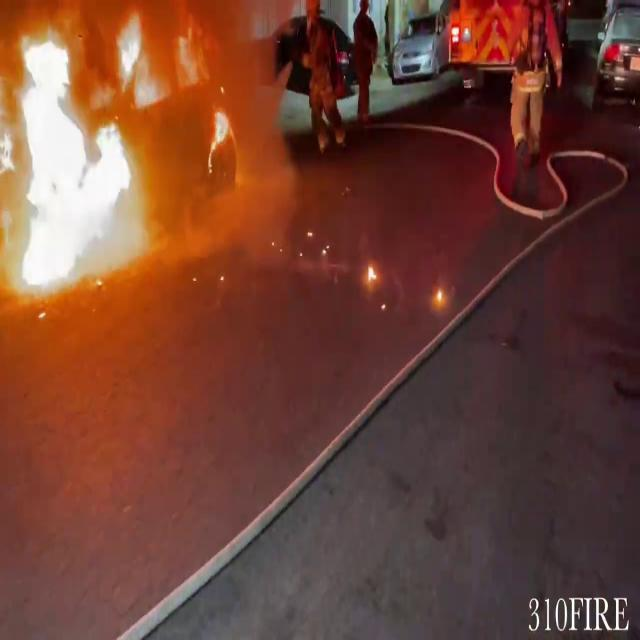Fire: (0, 2, 194, 302), (447, 0, 530, 65)
